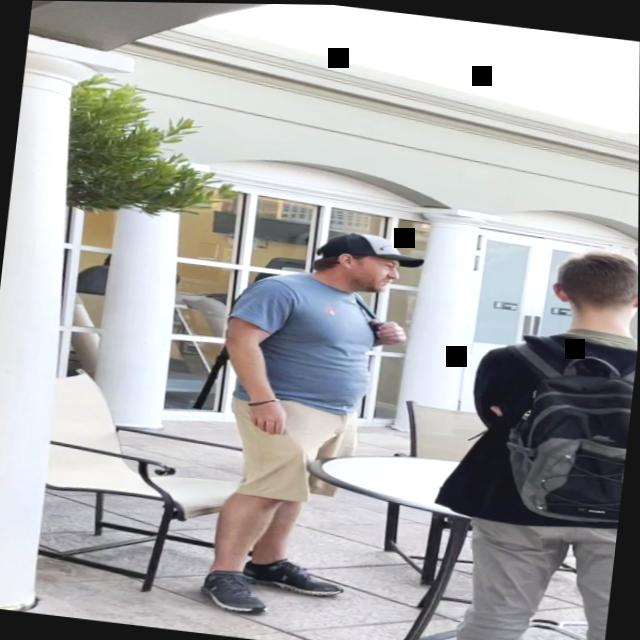NO-Mask: (345, 250, 404, 295)
